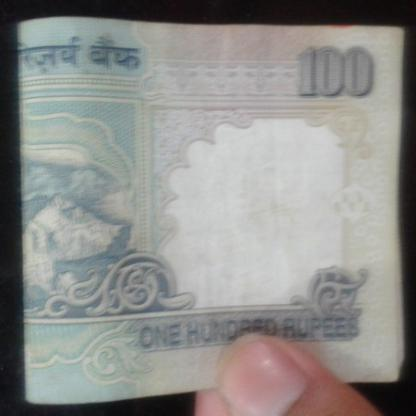Old100Back: (16, 16, 408, 407)
